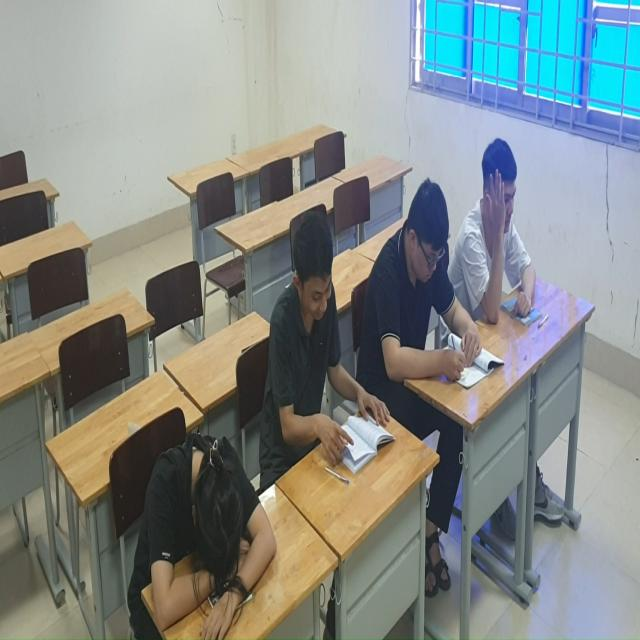raise_hand: (444, 108, 564, 349)
read: (252, 162, 397, 483), (373, 178, 485, 425)
sleep: (124, 439, 295, 640)
